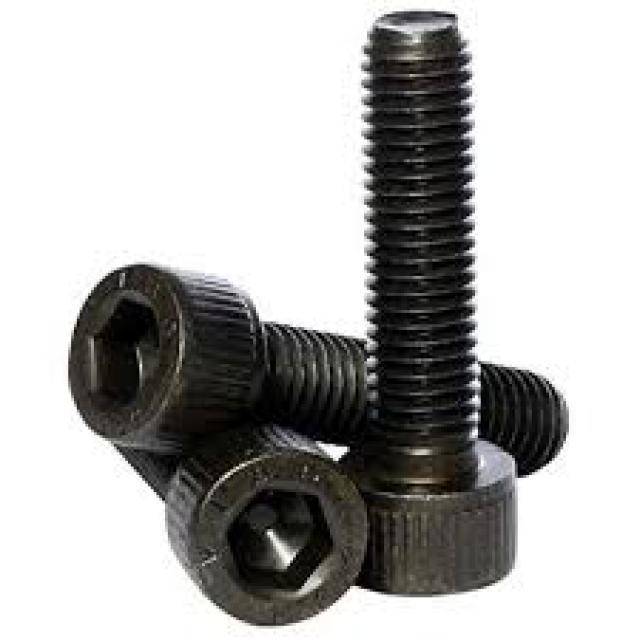allen: (164, 427, 368, 626), (66, 262, 191, 442)
